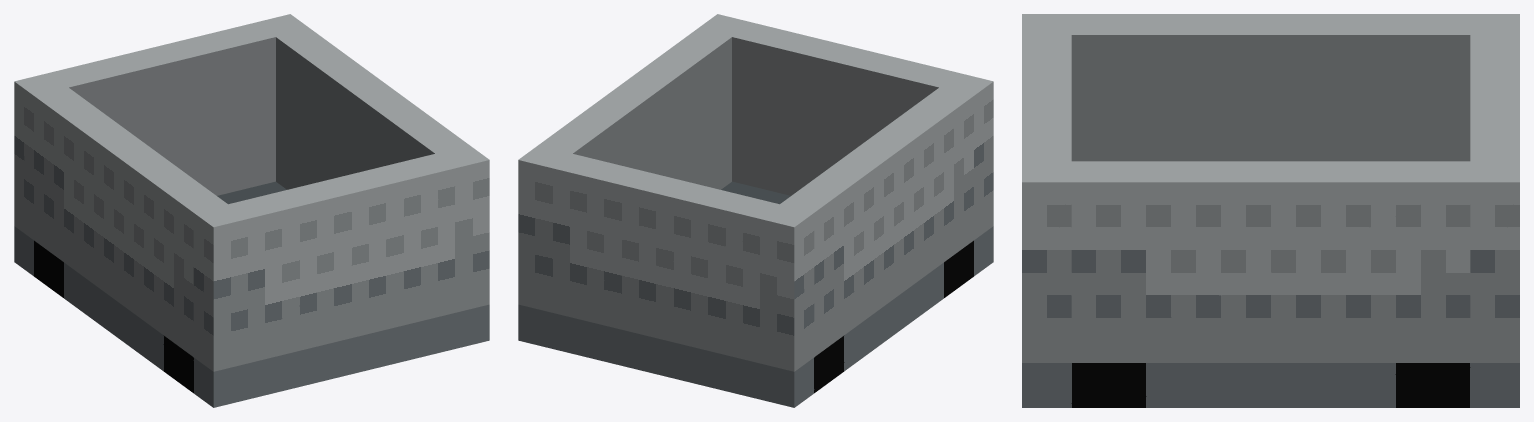
3 renders of one model, left to right at view 1: azimuth 30°, elevation 25°; view 2: azimuth 150°, elevation 25°; view 3: azimuth 270°, elevation 25°, orthographic. The views are drawn at different scales.
Parts seen in each view (by area): view 1: back2, left2, front2, base, right2; view 2: front2, left2, back2, base, right2; view 3: right2, left2, base, front2, back2.
Part boxes in pixels (bbox=[...]): back2: bbox=[193, 145, 489, 371]; left2: bbox=[34, 87, 227, 356]; front2: bbox=[14, 14, 309, 239]; base: bbox=[14, 181, 489, 407]; right2: bbox=[276, 28, 469, 189]; front2: bbox=[518, 145, 814, 371]; left2: bbox=[780, 87, 973, 356]; back2: bbox=[698, 14, 993, 239]; base: bbox=[518, 181, 993, 407]; right2: bbox=[538, 28, 731, 189]; right2: bbox=[1071, 161, 1470, 362]; left2: bbox=[1071, 14, 1470, 161]; base: bbox=[1022, 363, 1519, 407]; front2: bbox=[1470, 14, 1519, 362]; back2: bbox=[1022, 14, 1071, 362].
Size of the model in its own units: 1 by 0.625 by 1.25.
1 material, 1 textured.
